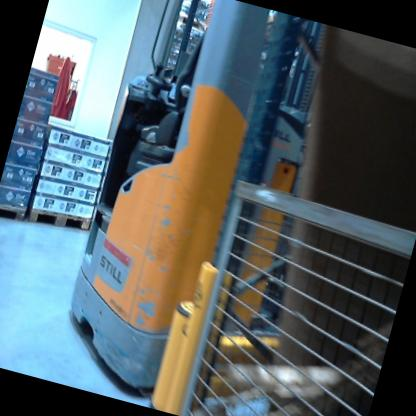forklift: (41, 0, 383, 416)
pallet: (21, 202, 93, 243), (166, 5, 220, 40), (0, 202, 30, 229)
stillage: (170, 165, 416, 416)
